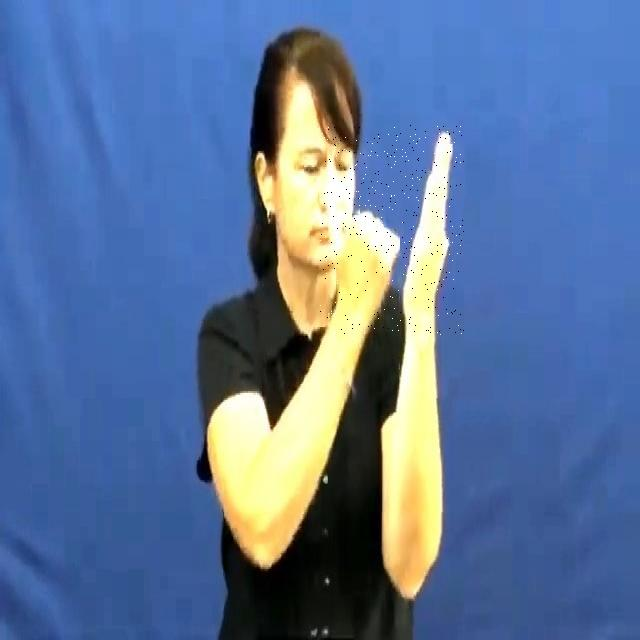menu: (320, 125, 464, 336)
